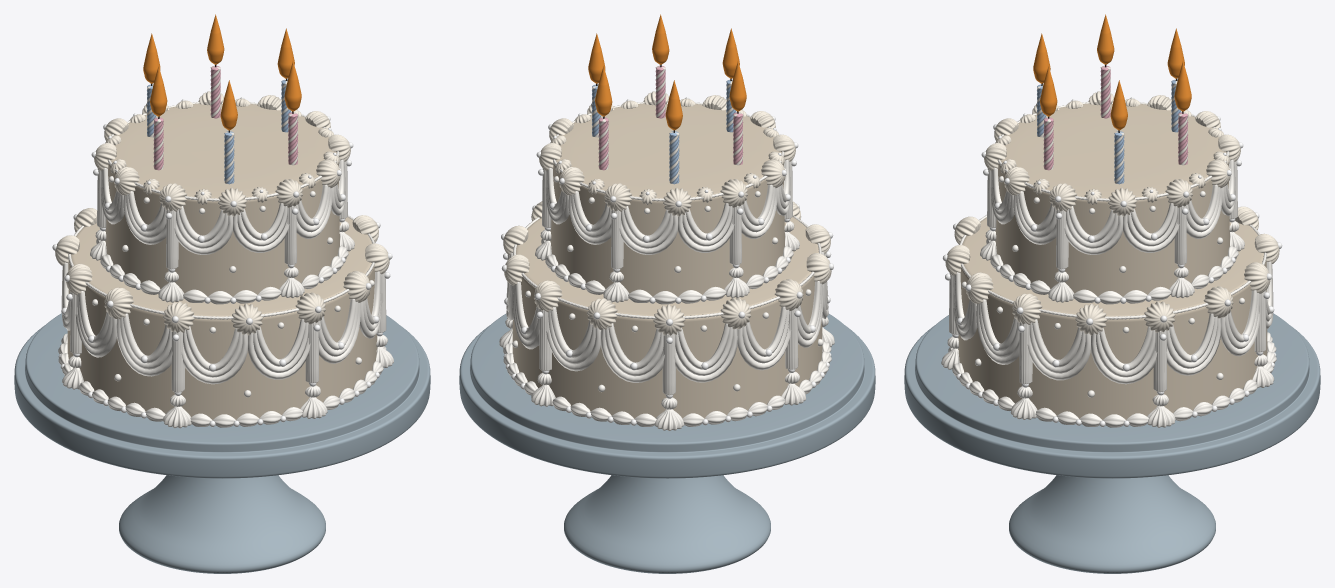
Rendered from birthday.glb.
3 views of the same model, side by side, from view 1: azimuth 30°, elevation 25°; view 2: azimuth 150°, elevation 25°; view 3: azimuth 270°, elevation 25° (orthographic).
Visible parts, largest first — view 1: frosting_cake_buttercream, tray_mesh, frosting_cake_piping, frosting_cake_rosette, frosting_cake_pearl, flame_04_mesh, flame_02_mesh, flame_05_mesh, flame_01_mesh, candle_02_wax_mesh, candle_01_wax_mesh, candle_05_wax_mesh (+3 smaller); view 2: frosting_cake_buttercream, tray_mesh, frosting_cake_piping, frosting_cake_rosette, frosting_cake_pearl, flame_01_mesh, flame_03_mesh, flame_05_mesh, flame_04_mesh, candle_03_wax_mesh, candle_05_wax_mesh, candle_04_wax_mesh (+3 smaller); view 3: frosting_cake_buttercream, tray_mesh, frosting_cake_piping, frosting_cake_rosette, frosting_cake_pearl, flame_05_mesh, flame_06_mesh, flame_04_mesh, flame_01_mesh, candle_06_wax_mesh, candle_04_wax_mesh, candle_01_wax_mesh (+3 smaller).
Part boxes in pixels (x1,y1,x2,y2): frosting_cake_buttercream: (67, 103, 377, 420); tray_mesh: (14, 313, 430, 573); frosting_cake_piping: (58, 102, 393, 428); frosting_cake_rosette: (55, 91, 389, 335); frosting_cake_pearl: (52, 97, 392, 427); flame_04_mesh: (284, 61, 301, 111); flame_02_mesh: (220, 80, 237, 130); flame_05_mesh: (207, 14, 224, 64); flame_01_mesh: (150, 66, 167, 116); candle_02_wax_mesh: (224, 131, 234, 184); candle_01_wax_mesh: (153, 117, 163, 170); candle_05_wax_mesh: (210, 65, 220, 118); frosting_cake_buttercream: (512, 103, 822, 418); tray_mesh: (459, 313, 875, 573); frosting_cake_piping: (499, 102, 834, 430); frosting_cake_rosette: (503, 91, 831, 335); frosting_cake_pearl: (501, 97, 833, 425); flame_01_mesh: (729, 61, 746, 111); flame_03_mesh: (665, 80, 682, 130); flame_05_mesh: (595, 66, 612, 116); flame_04_mesh: (652, 14, 669, 64); candle_03_wax_mesh: (669, 131, 679, 184); candle_05_wax_mesh: (598, 117, 608, 170); candle_04_wax_mesh: (655, 65, 665, 118); frosting_cake_buttercream: (958, 103, 1267, 420); tray_mesh: (904, 313, 1320, 573); frosting_cake_piping: (941, 102, 1276, 427); frosting_cake_rosette: (945, 91, 1279, 335); frosting_cake_pearl: (942, 97, 1282, 427); flame_05_mesh: (1174, 61, 1191, 111); flame_06_mesh: (1110, 80, 1127, 130); flame_04_mesh: (1040, 66, 1057, 116); flame_01_mesh: (1097, 14, 1114, 64); candle_06_wax_mesh: (1114, 131, 1124, 184); candle_04_wax_mesh: (1043, 117, 1053, 170); candle_01_wax_mesh: (1100, 65, 1110, 118).
Size of what is drawn, in the model's own units: 1.68 by 2.16 by 1.68.
9 materials, 2 textured.
